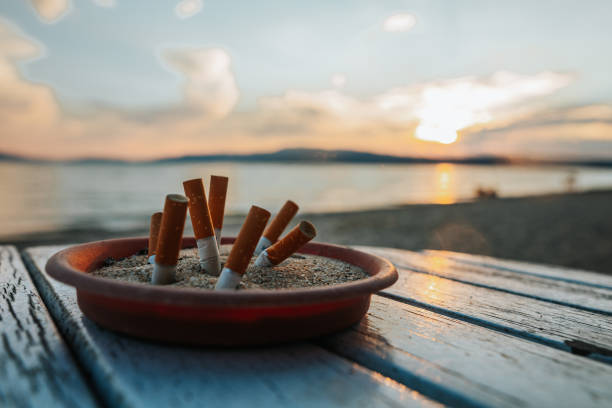cigarette: (214, 203, 271, 290), (181, 176, 222, 277), (151, 191, 191, 285), (251, 218, 319, 270), (252, 196, 301, 258), (207, 174, 230, 249), (146, 211, 164, 265)
